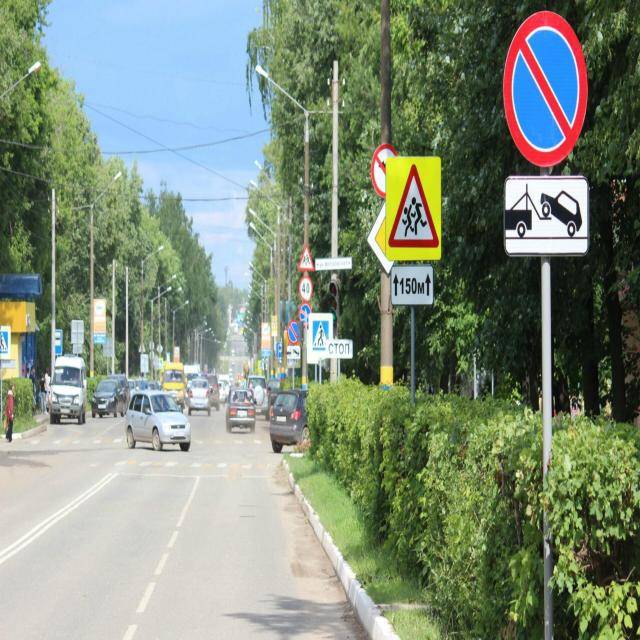Traffic sign: (500, 8, 591, 170), (501, 176, 591, 259), (386, 157, 442, 262), (389, 265, 436, 304), (308, 312, 332, 360), (368, 205, 386, 267), (371, 140, 385, 201), (326, 338, 353, 362), (299, 244, 314, 272)
